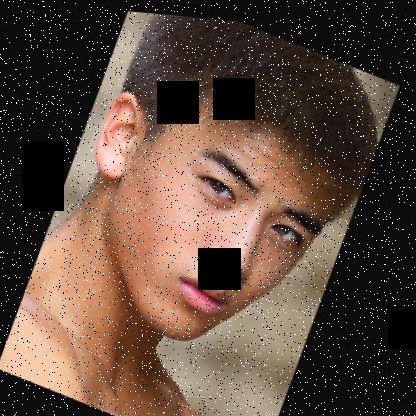Male: (43, 47, 367, 381)
